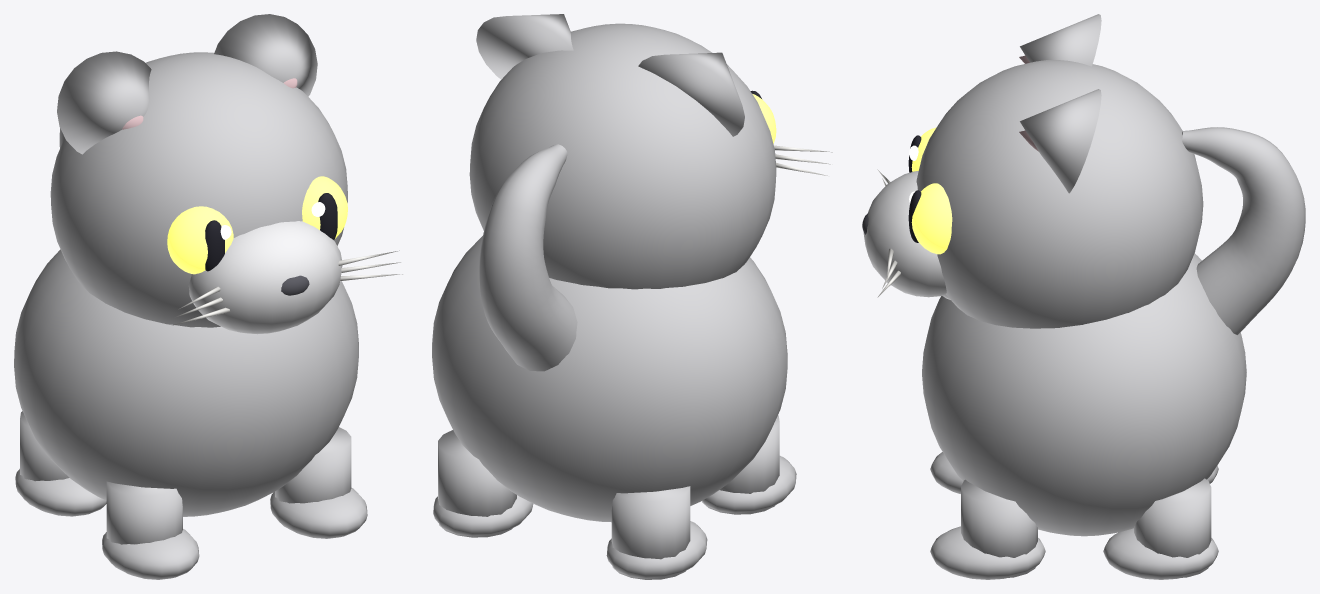
The model's file is scottish_dealer.glb.
The picture shows the model from 3 angles, left to right: view 1: azimuth 30°, elevation 25°; view 2: azimuth 150°, elevation 25°; view 3: azimuth 270°, elevation 25°; orthographic projection. The views are drawn at different scales.
Parts seen in each view (by area): view 1: scottish_dealer; view 2: scottish_dealer; view 3: scottish_dealer.
Boxes of the visible parts, x1,y1,x2,y2 form: scottish_dealer: [14, 14, 402, 579]; scottish_dealer: [432, 14, 832, 579]; scottish_dealer: [862, 14, 1305, 579].
Bounding box in the file's own units: 1.1 × 1.63 × 1.38.
